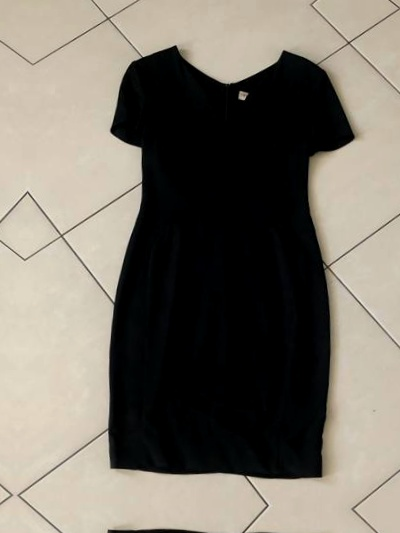Dress: (50, 32, 365, 487), (30, 519, 345, 533)
